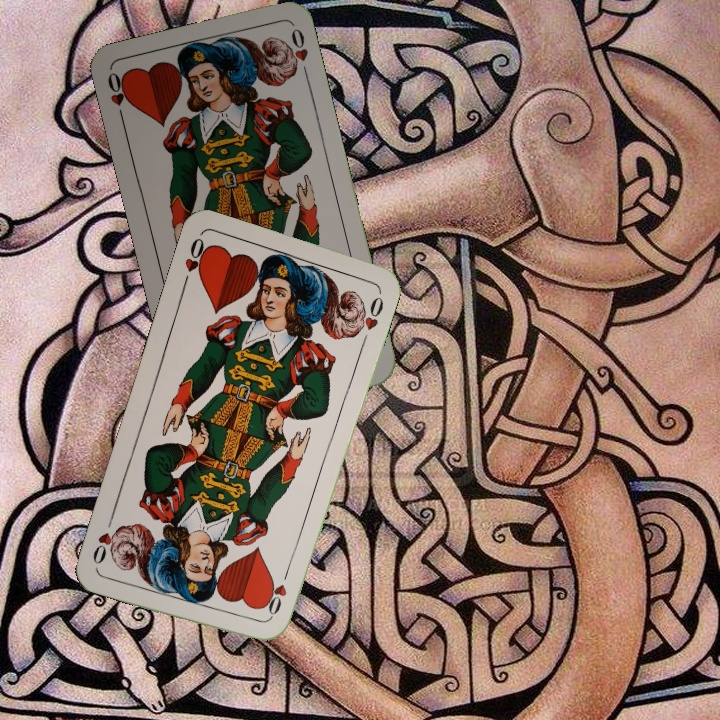HO: (178, 233, 212, 290), (103, 68, 134, 127), (264, 565, 292, 622)
